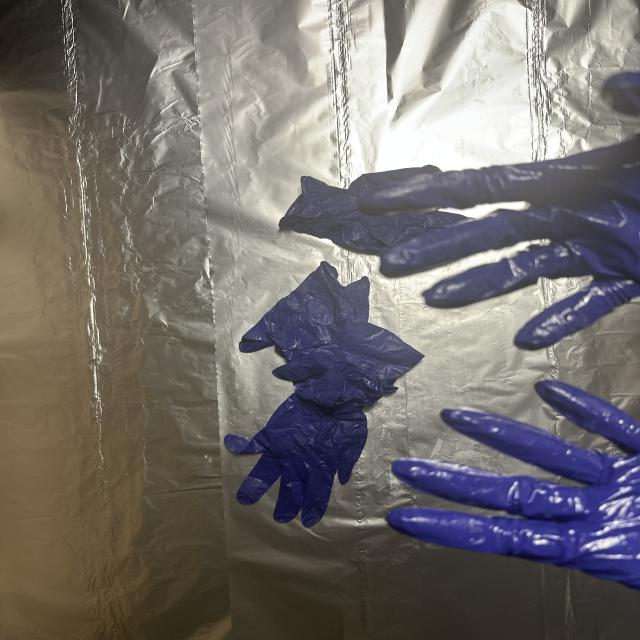gloves_contaminated: (359, 134, 640, 350), (387, 380, 640, 590)
